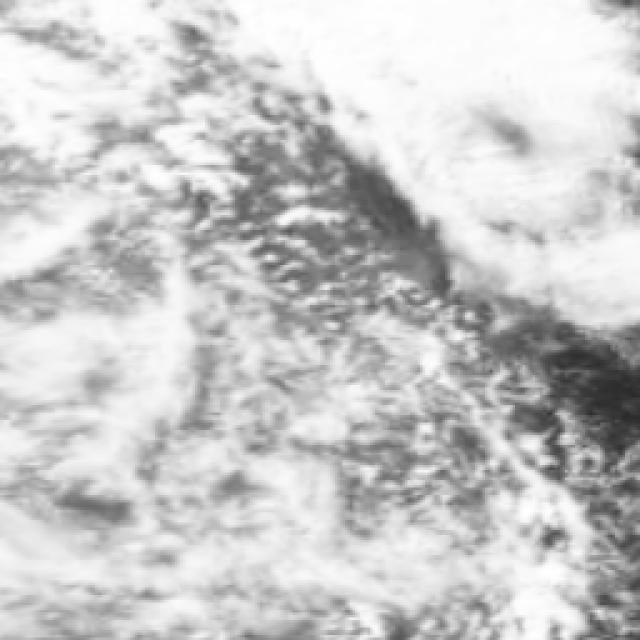CB: (334, 0, 572, 120), (447, 147, 640, 287), (0, 14, 113, 186), (241, 0, 392, 115)
